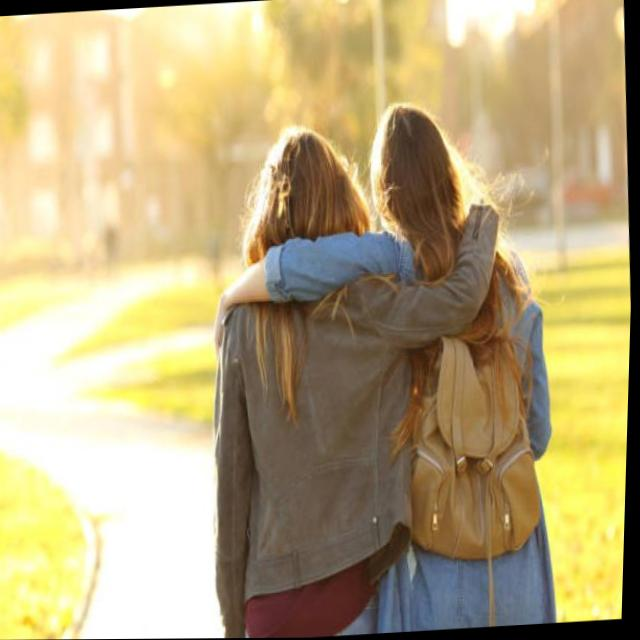no helmet: (352, 98, 481, 284), (236, 116, 368, 296)
